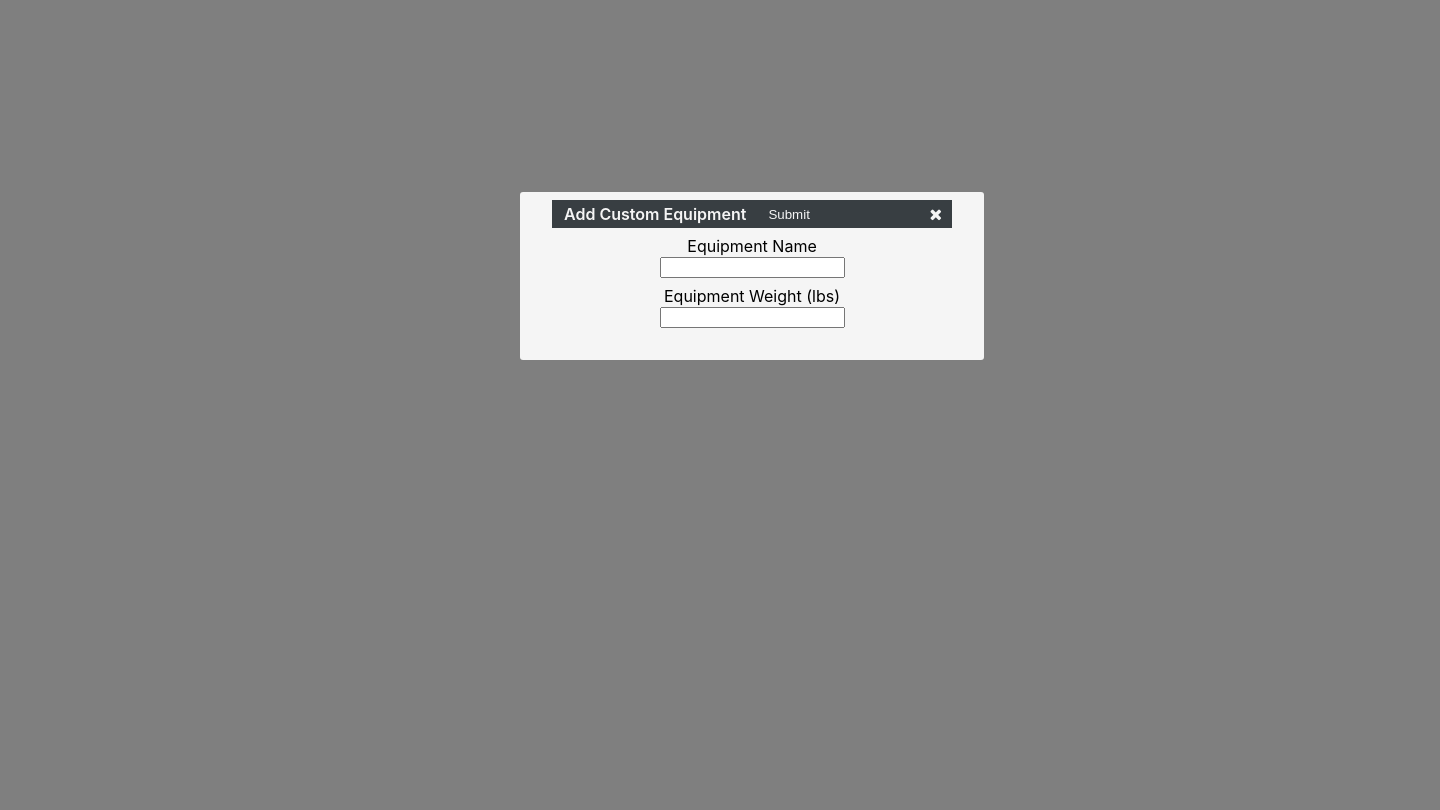
Test: adding custom equipment › should display error msg if custom equipment weight not provided
Type "added equip" into the field below "Equipment Name" at (752, 268), box [660,257,844,278]
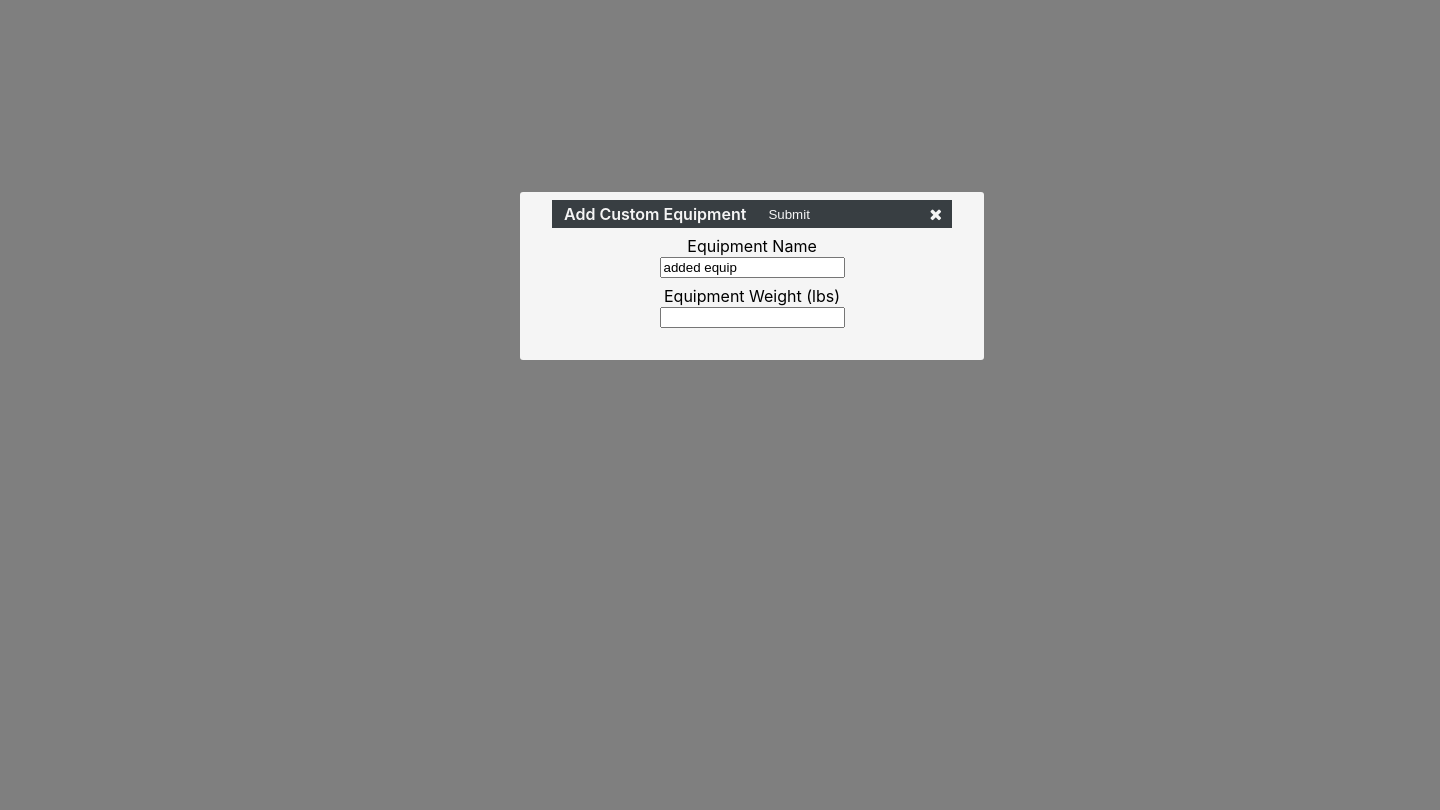
Click the button "Submit" at (789, 214), box [762,206,816,222]
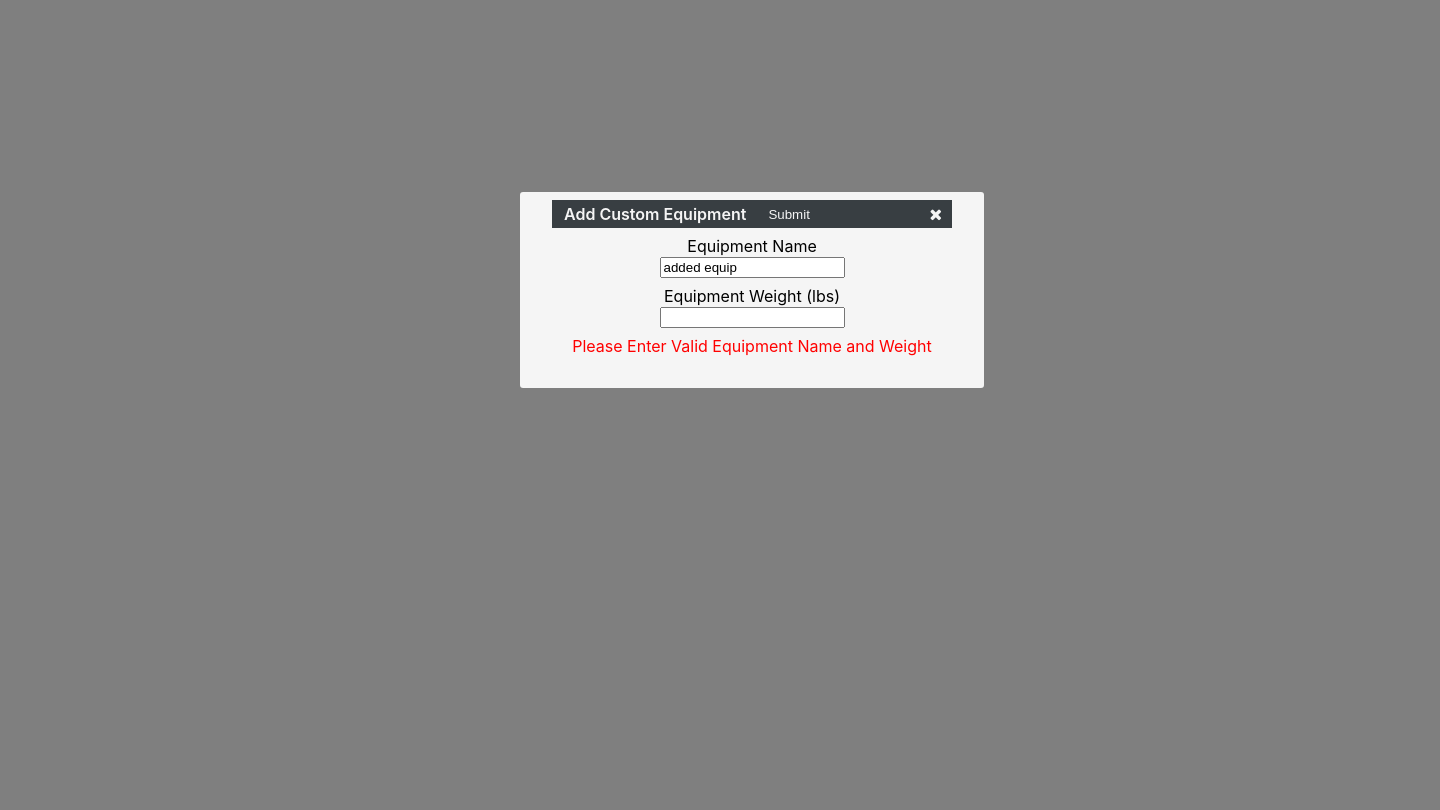
Expected: the text "Please Enter Valid Equipment Name and Weight" is shown, [552,336,952,356]
